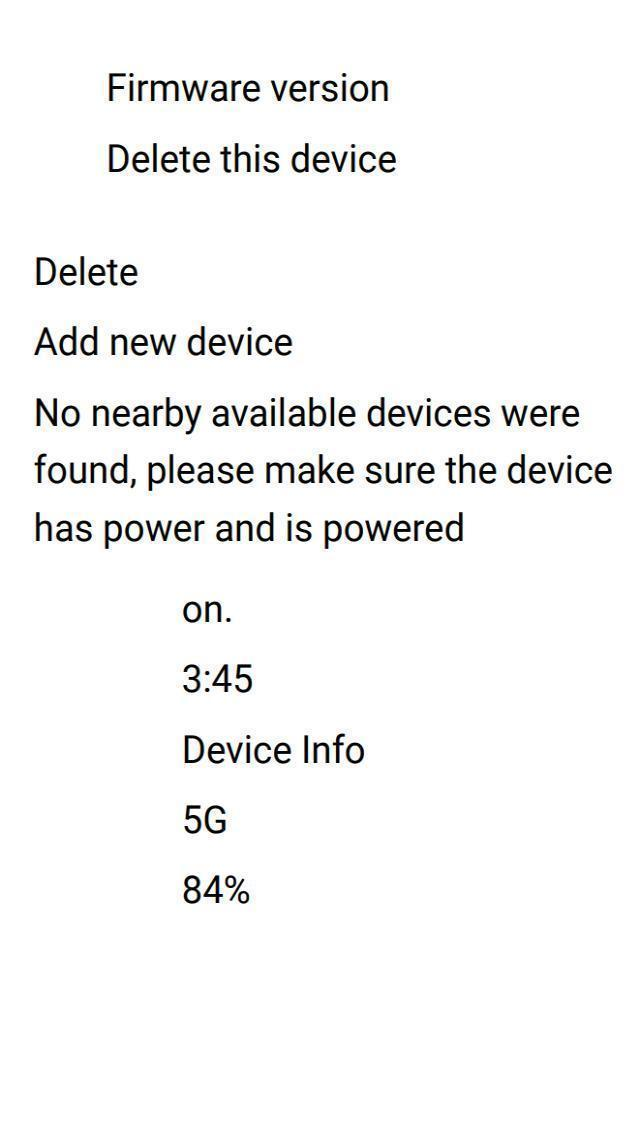Text: (29, 448, 618, 495), (28, 393, 594, 434), (24, 503, 472, 553), (98, 138, 414, 180), (100, 70, 403, 106), (27, 323, 304, 360), (179, 728, 367, 774), (29, 253, 142, 292), (180, 868, 258, 914), (178, 660, 258, 702), (174, 596, 248, 630), (182, 797, 239, 840)
